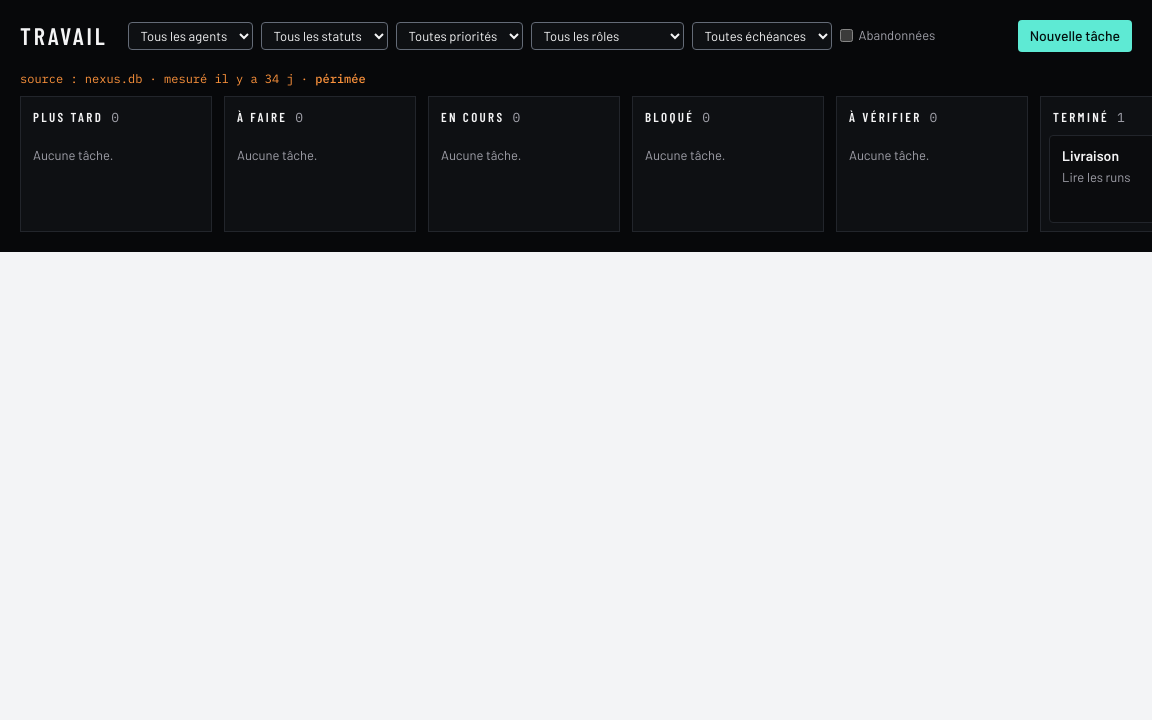
Scenario: la réponse d’une création ferme la boîte quand elle est encore ouverte sur la même cible
Click the button "Nouvelle tâche": x=1075, y=36 [1018,20,1132,52]
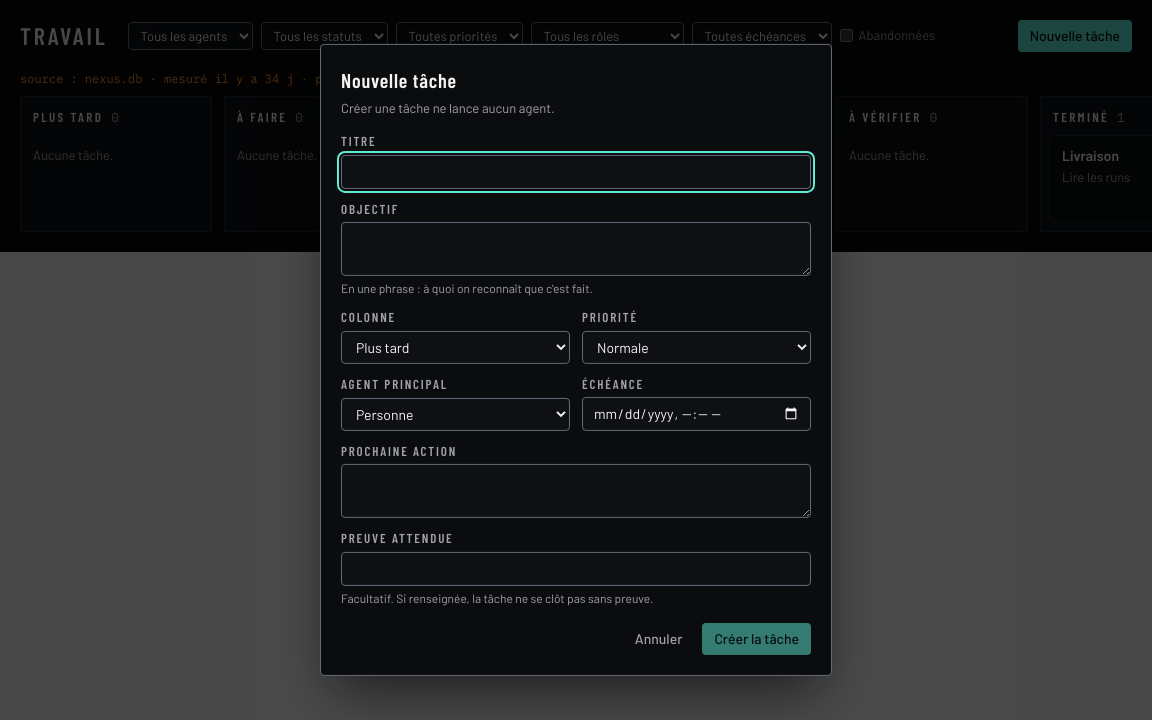
In the field labelled "Titre": x=576, y=172 [341,155,811,189], type "Idée"
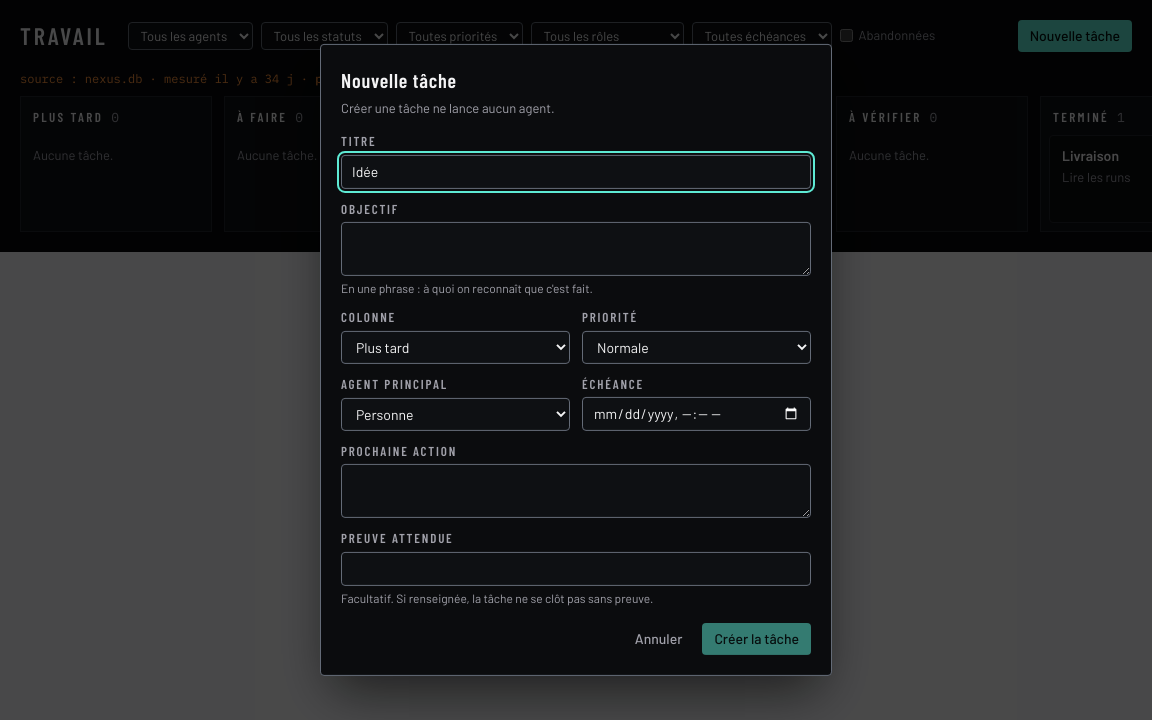
In the text box labelled "Objectif En une phrase : à quoi on reconnaît que c'est fait.": x=576, y=249 [341,222,811,276], type "Faire"
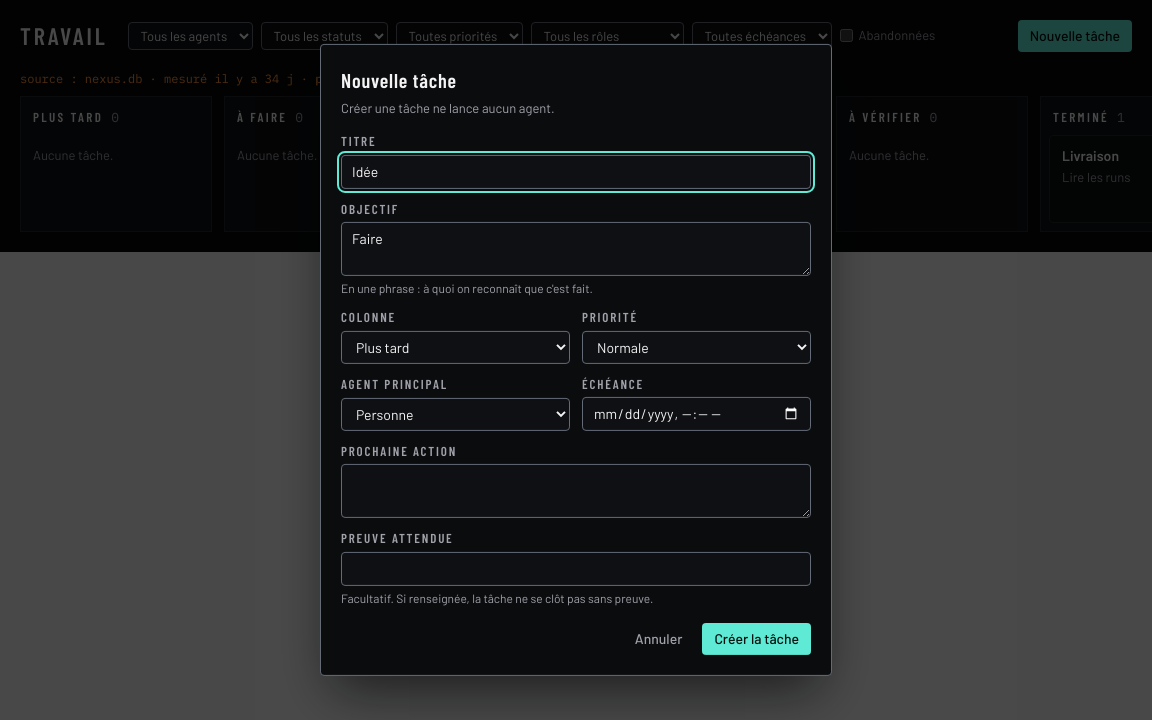
Click the button "Créer la tâche": x=757, y=639 [702,623,811,655]
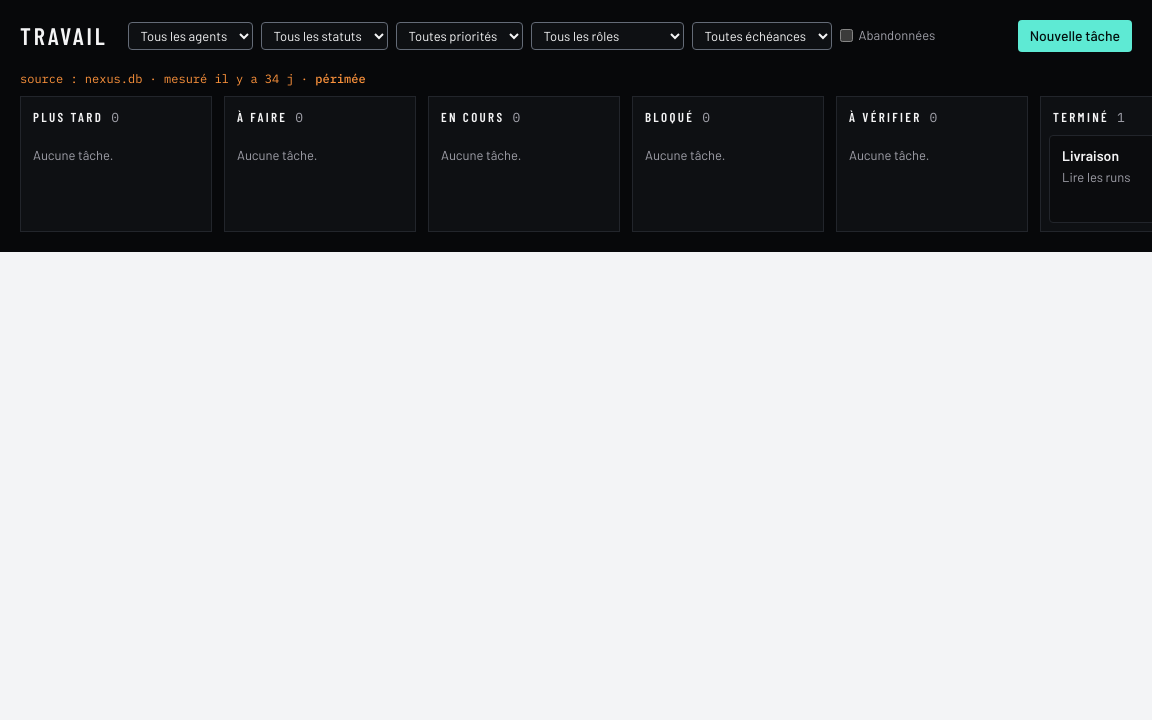
Expected: the dialog is gone
